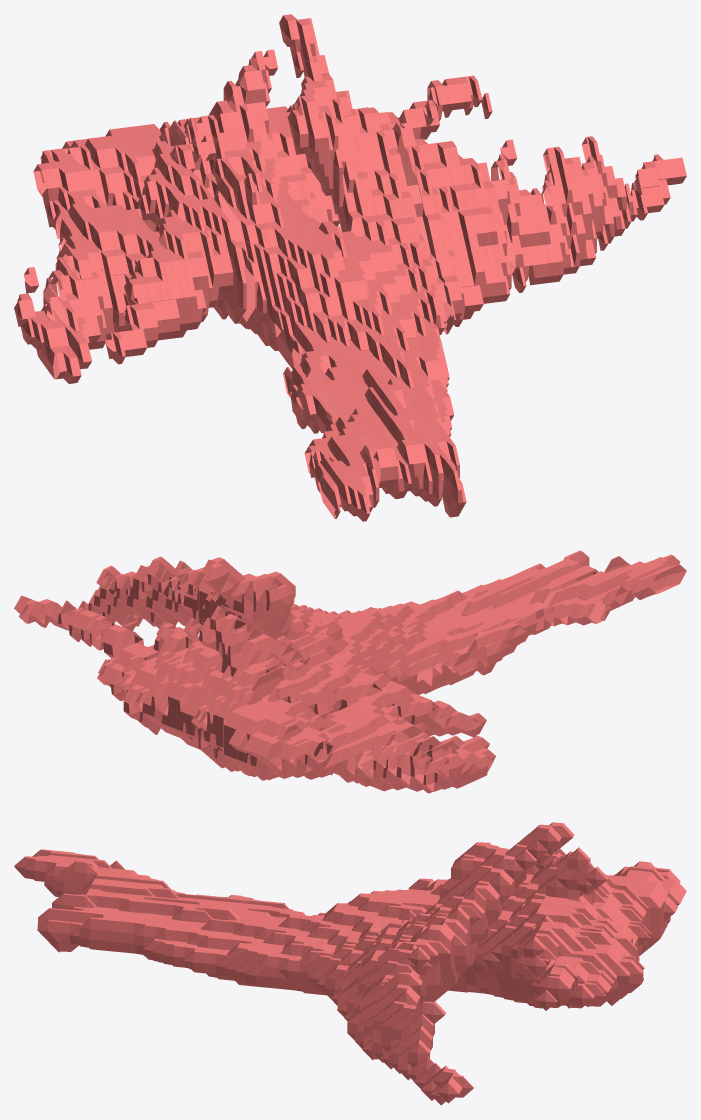
Rendered from SVV_BWM-DL05.gltf.
The picture shows the model from 3 angles, top to bottom: view 1: azimuth 30°, elevation 25°; view 2: azimuth 150°, elevation 25°; view 3: azimuth 270°, elevation 25°; orthographic projection. The views are drawn at different scales.
Parts seen in each view (by area): view 1: BWM-DL05; view 2: BWM-DL05; view 3: BWM-DL05.
Boxes of the visible parts, x1=… form: BWM-DL05: x1=14, y1=14, x2=686, y2=521; BWM-DL05: x1=14, y1=550, x2=686, y2=793; BWM-DL05: x1=14, y1=822, x2=686, y2=1105.
Bounding box in the file's own units: 33252 × 13190 × 39186.
